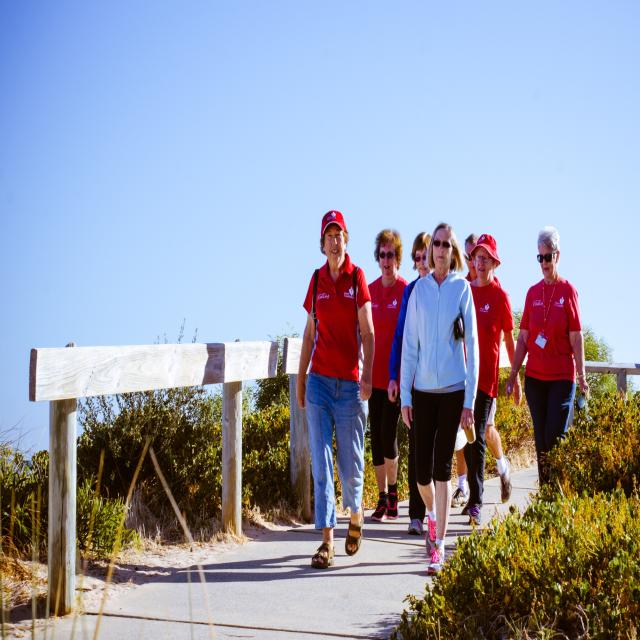body: (397, 221, 482, 579), (293, 209, 376, 571), (504, 225, 590, 498), (461, 234, 524, 528), (449, 233, 514, 509), (361, 228, 412, 522), (386, 230, 434, 538)
